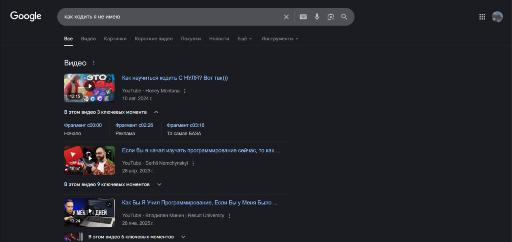google: (1, 1, 512, 241)
